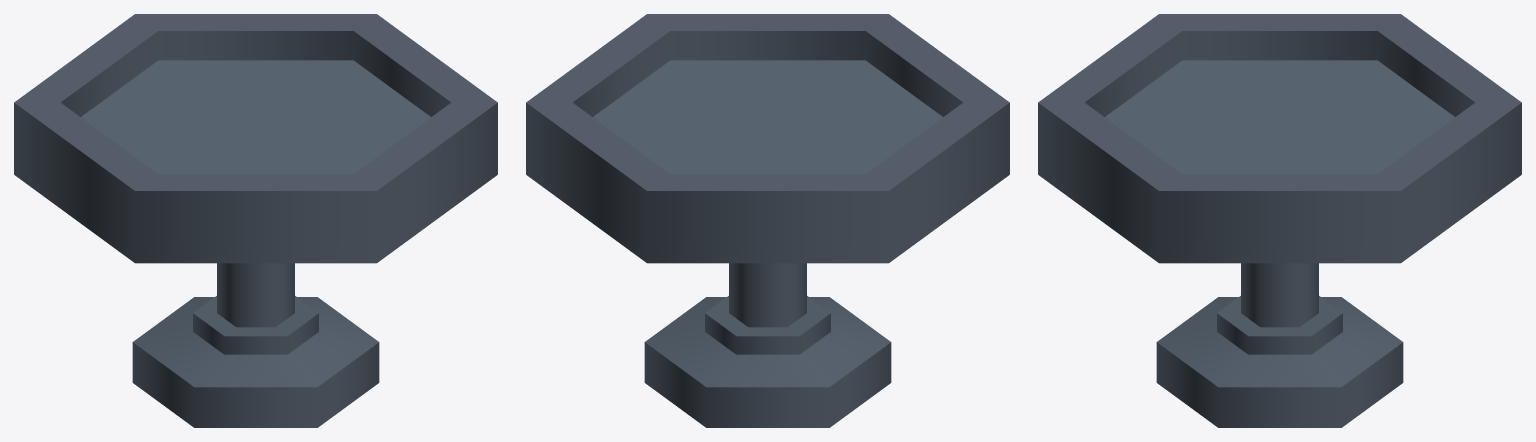
The model's file is FoodProp_1_A.fbx.
3 views of the same model, side by side, from view 1: azimuth 30°, elevation 25°; view 2: azimuth 150°, elevation 25°; view 3: azimuth 270°, elevation 25° (orthographic).
Visible parts, largest first — view 1: FoodProp_1_A; view 2: FoodProp_1_A; view 3: FoodProp_1_A.
Part boxes in pixels (x1,y1,x2,y2): FoodProp_1_A: (14,14,497,427); FoodProp_1_A: (526,14,1009,427); FoodProp_1_A: (1038,14,1521,427).
Size of the model in its own units: 49.95 by 36.88 by 57.67.
